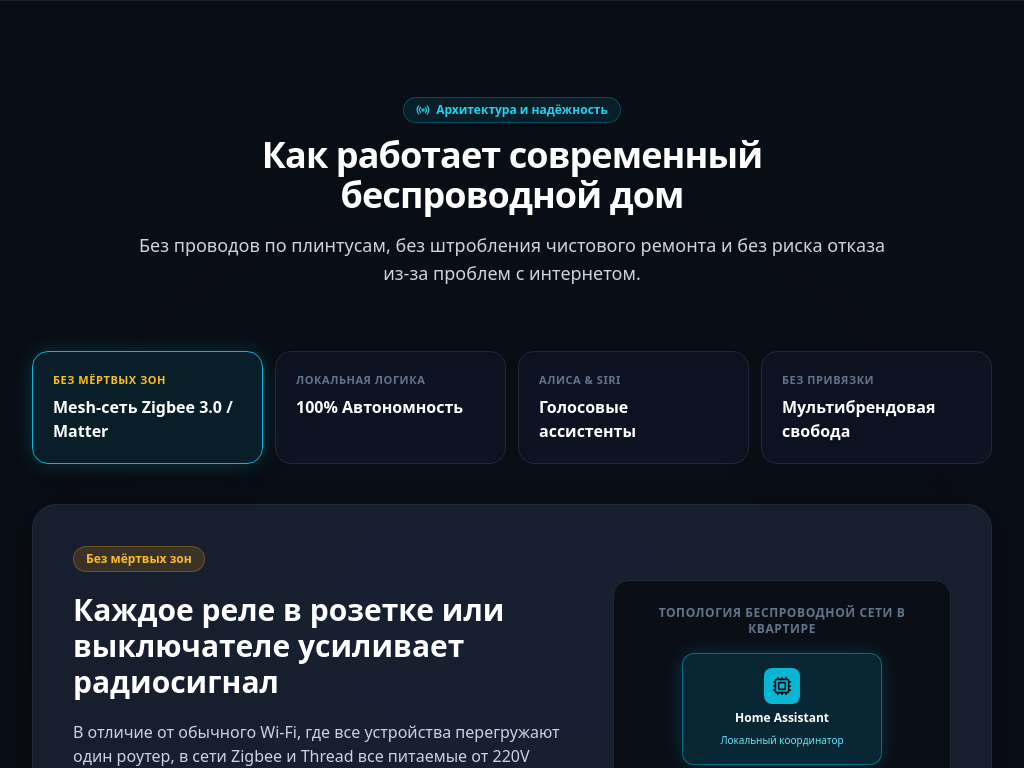
Test: InteractiveMeshDiagram Component › switches to autonomy tab on click
The width and height of the screenshot is (1024, 768).
Click the button "Локальная логика 100% Автономность": [390, 407] box [275,351,506,464]
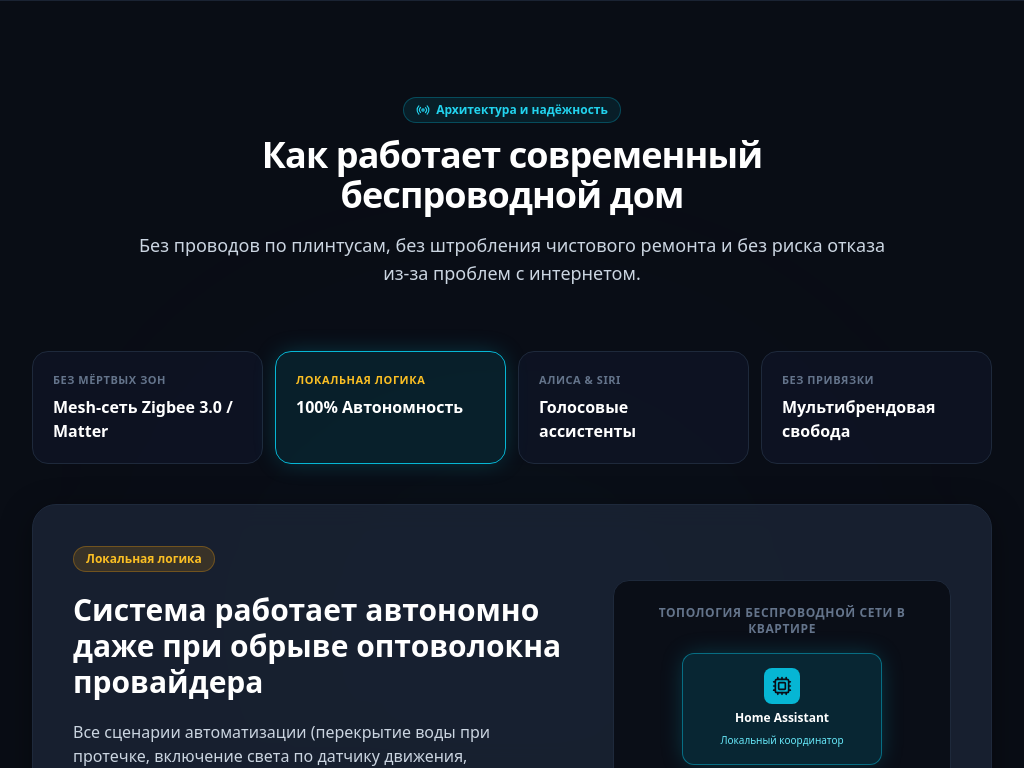
Expected: the heading "Система работает автономно даже при обрыве оптоволокна" is shown, [73,588,561,702]
